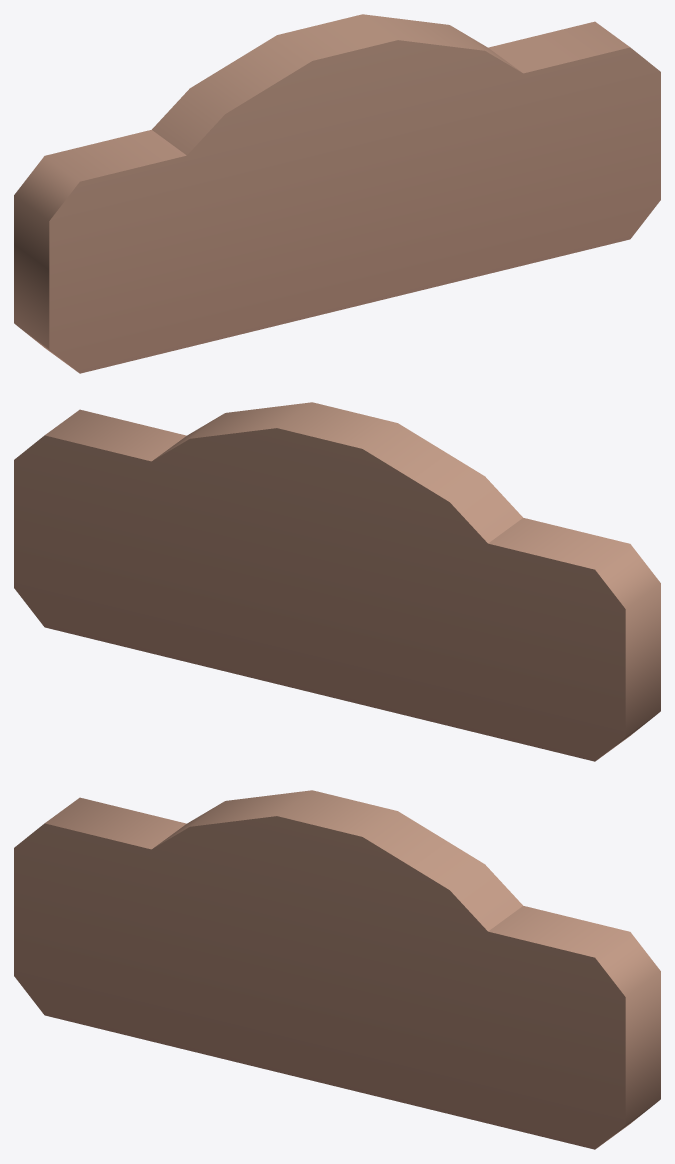
Rendered from plank-small-g.glb.
The picture shows the model from 3 angles, top to bottom: view 1: azimuth 30°, elevation 25°; view 2: azimuth 150°, elevation 25°; view 3: azimuth 330°, elevation 25°; orthographic projection.
Parts seen in each view (by area): view 1: plank-small-g; view 2: plank-small-g; view 3: plank-small-g.
Boxes of the visible parts, left/top/right/bottom form: plank-small-g: left=14, top=14, right=660, bottom=373; plank-small-g: left=14, top=402, right=660, bottom=761; plank-small-g: left=14, top=790, right=660, bottom=1149.
Bounding box in the file's own units: 0.5 × 0.2 × 0.05.
